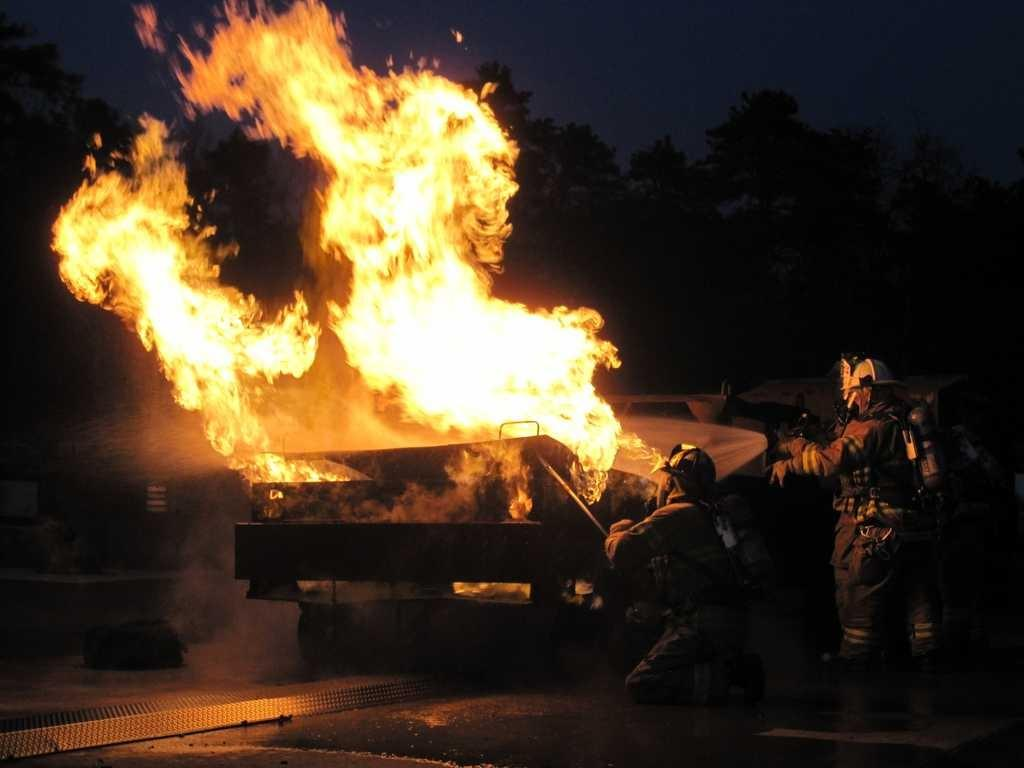fire: (320, 86, 500, 294), (348, 300, 604, 426), (70, 126, 208, 338)
